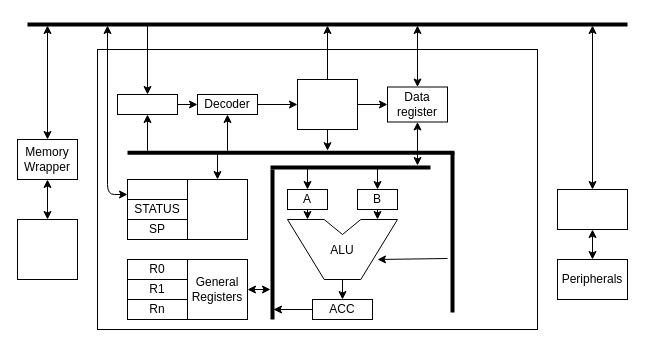
The diagram is 647 pixels wide and 347 high, and some of its shapes have lost their labels. The box of each missing label's shape, as (x1, y1, x2, y2) in pixels:
Control Unit: (296, 78, 358, 130)
IR: (116, 94, 178, 114)
Memory: (16, 218, 78, 280)
PC: (126, 178, 188, 200)
Peripheral regiters: (556, 188, 628, 230)
Special Registers: (186, 178, 248, 240)
